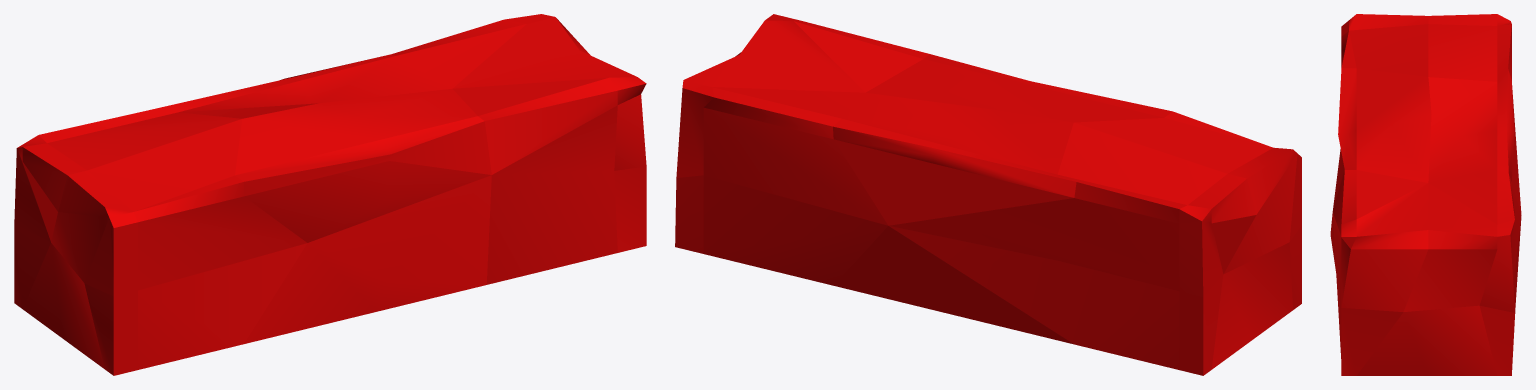
File: Pillar.fbx
The picture shows the model from 3 angles, left to right: view 1: azimuth 30°, elevation 25°; view 2: azimuth 150°, elevation 25°; view 3: azimuth 270°, elevation 25°; orthographic projection. The views are drawn at different scales.
Visible parts, largest first — view 1: Pillar1; view 2: Pillar1; view 3: Pillar1.
Part boxes in pixels (left/top/right/bottom): Pillar1: left=14, top=14, right=646, bottom=375; Pillar1: left=675, top=14, right=1301, bottom=375; Pillar1: left=1330, top=14, right=1521, bottom=375.
Size of the model in its own units: 17.85 by 5.45 by 6.24.
